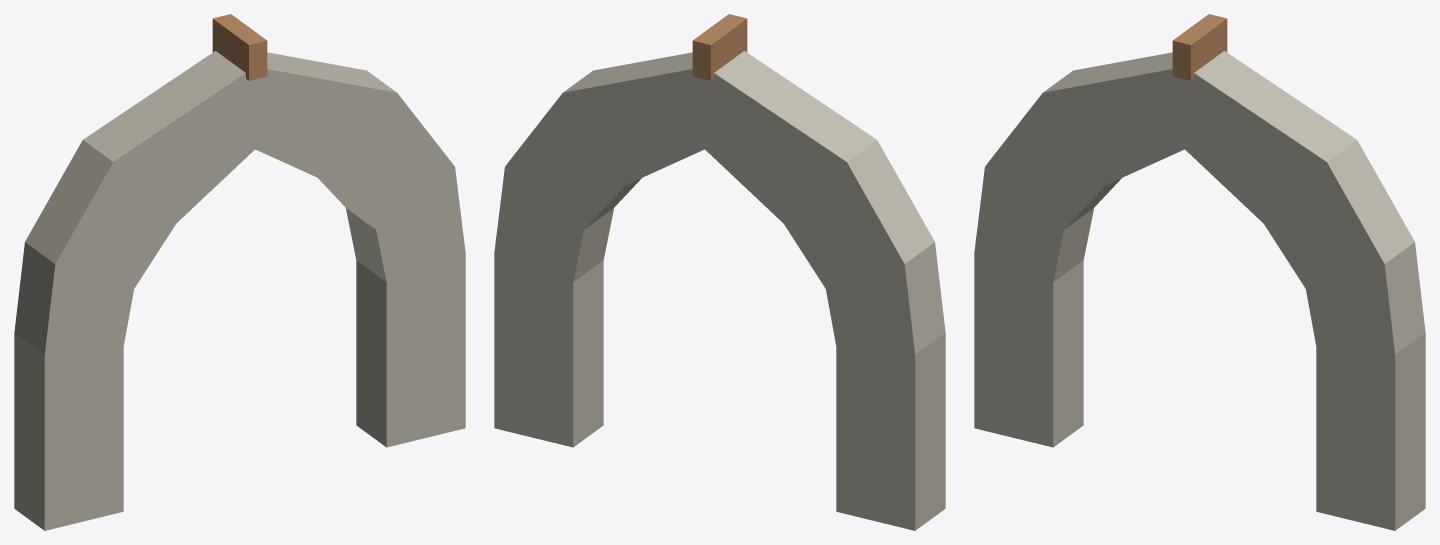
Rendered from SM_AEON_PointedArch_8m.glb.
The picture shows the model from 3 angles, left to right: view 1: azimuth 30°, elevation 25°; view 2: azimuth 150°, elevation 25°; view 3: azimuth 330°, elevation 25°; orthographic projection.
Parts seen in each view (by area): view 1: SM_AEON_PointedArch_8m; view 2: SM_AEON_PointedArch_8m; view 3: SM_AEON_PointedArch_8m.
Boxes of the visible parts, <box> form: SM_AEON_PointedArch_8m: <box>14,14,465,530</box>; SM_AEON_PointedArch_8m: <box>494,14,945,530</box>; SM_AEON_PointedArch_8m: <box>974,14,1425,530</box>.
Bounding box in the file's own units: 8 × 7.97 × 1.2.
